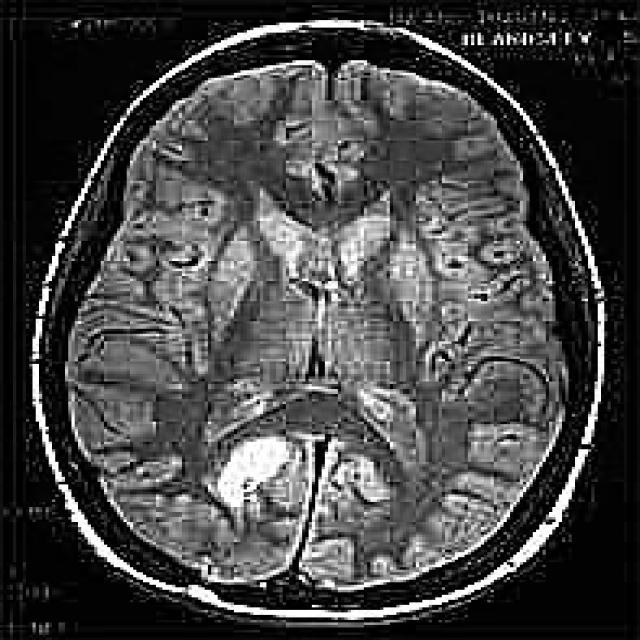Tumor-Cell: (203, 416, 343, 514)
